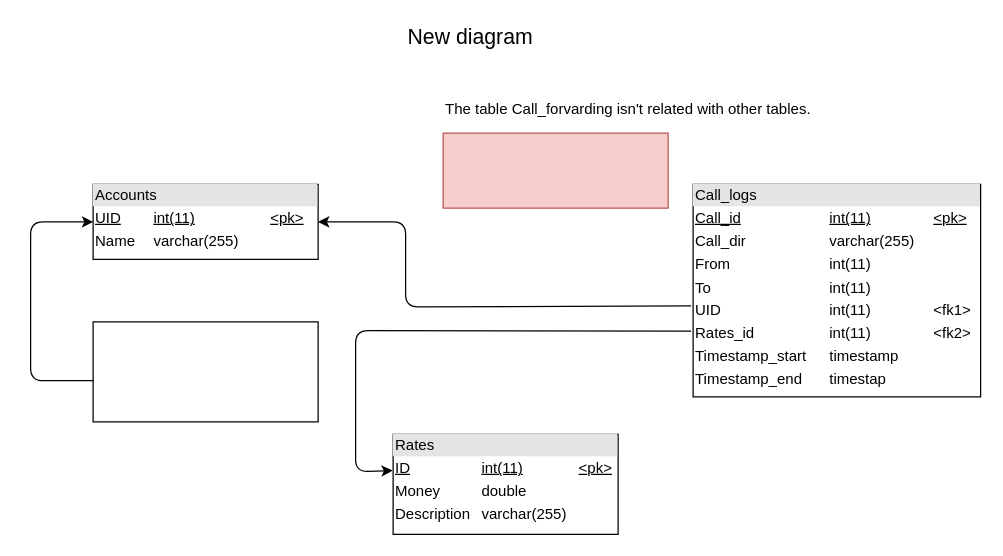
Some shapes in this 1003 by 556 pixel diagram are drawn without their labels. Each missing label, with the box of its shape:
Call_forwarding From int(11) To int(11): (442, 132, 668, 208)
Numbers ID int(11) <pk> UID int(11) <fk> Phone_Number int(11): (92, 321, 318, 422)
